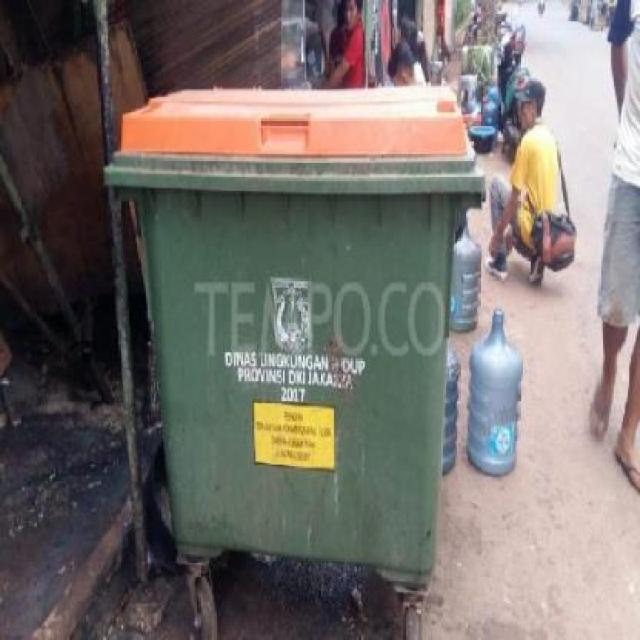garbage container: (94, 80, 488, 628)
